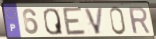0: (109, 5, 128, 36)
6: (22, 8, 41, 36)
E: (61, 6, 87, 37)
Q: (42, 7, 65, 36)
R: (127, 5, 152, 35)
V: (83, 7, 105, 36)
